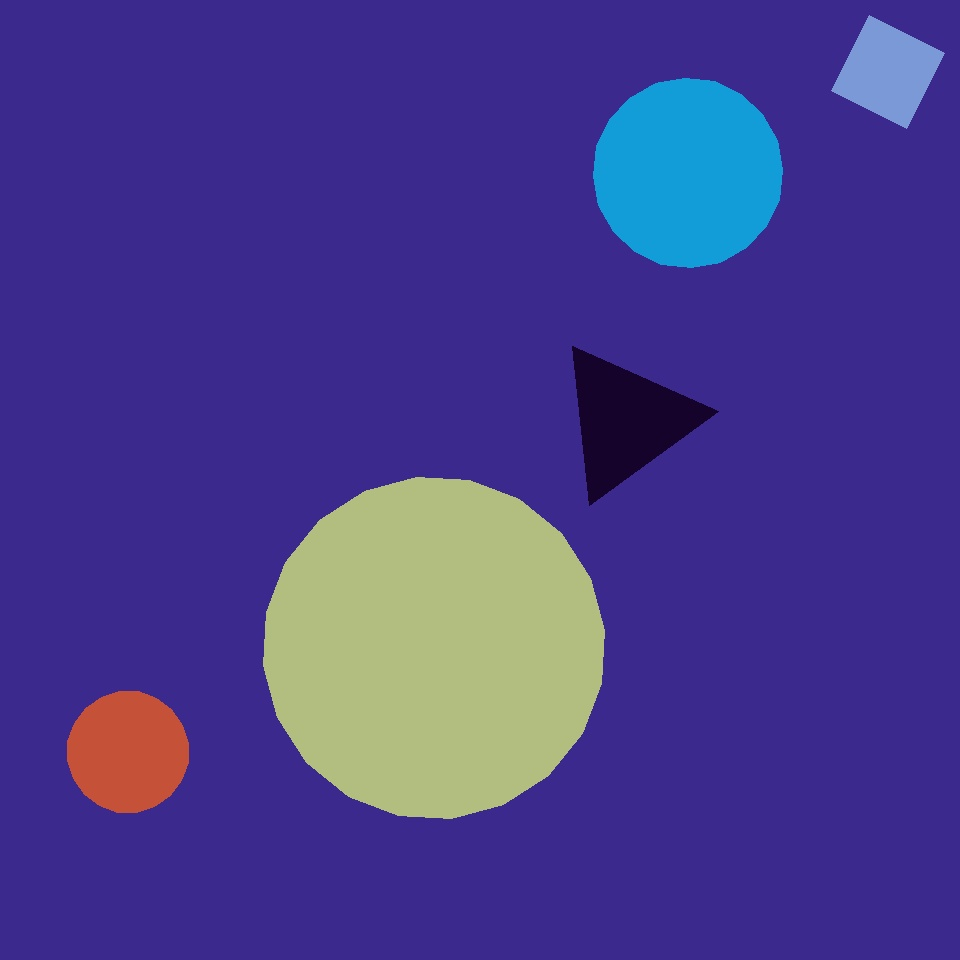circle: (554, 342, 700, 500), (605, 583, 747, 723), (421, 379, 539, 508)
square: (832, 15, 944, 128)
triangle: (264, 478, 604, 818), (594, 78, 782, 268), (68, 692, 188, 812)
